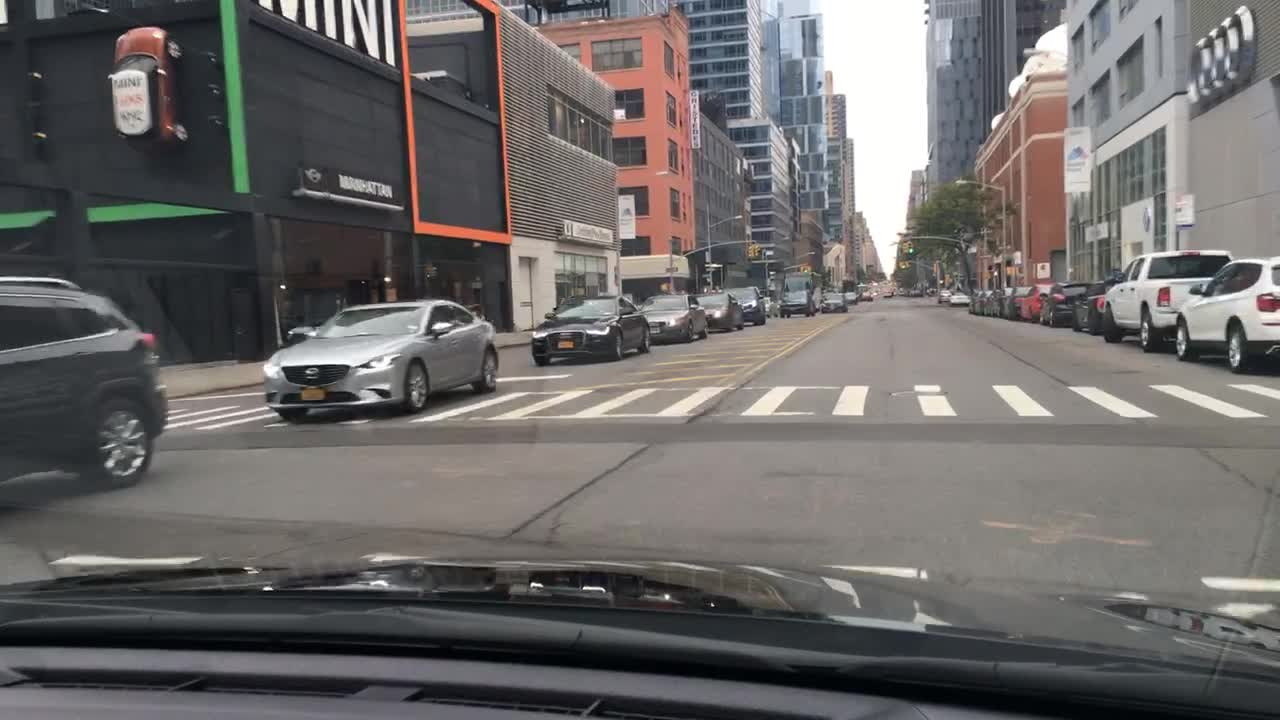car: (0, 273, 172, 494), (260, 296, 504, 426), (1101, 245, 1235, 355), (1173, 252, 1279, 375), (526, 291, 654, 367), (638, 292, 711, 344), (1036, 279, 1093, 328), (1070, 278, 1112, 337), (697, 293, 747, 333), (730, 285, 769, 327), (1016, 282, 1052, 323), (997, 284, 1030, 322), (983, 285, 1014, 319), (820, 291, 850, 315), (836, 277, 861, 304), (972, 287, 992, 316), (762, 294, 781, 317), (947, 290, 973, 306), (856, 283, 874, 303), (966, 289, 980, 311), (937, 288, 955, 304), (925, 287, 939, 297), (910, 288, 923, 298), (896, 285, 906, 296), (902, 285, 913, 295), (871, 289, 882, 298), (883, 290, 894, 299)
traffic light: (904, 239, 915, 253), (746, 243, 754, 258), (900, 242, 909, 255), (753, 243, 761, 257), (898, 259, 908, 269), (658, 282, 668, 291), (1005, 265, 1013, 276)
traffic sign: (1175, 192, 1196, 230), (663, 266, 679, 274), (700, 272, 710, 280), (704, 266, 717, 271)
truck: (779, 271, 824, 320)
